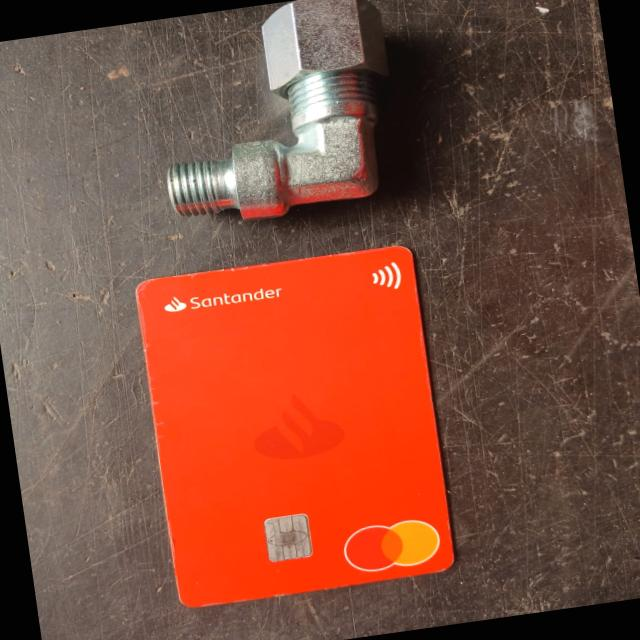cartao: (130, 242, 457, 610)
rosca_externa: (144, 0, 406, 230)
